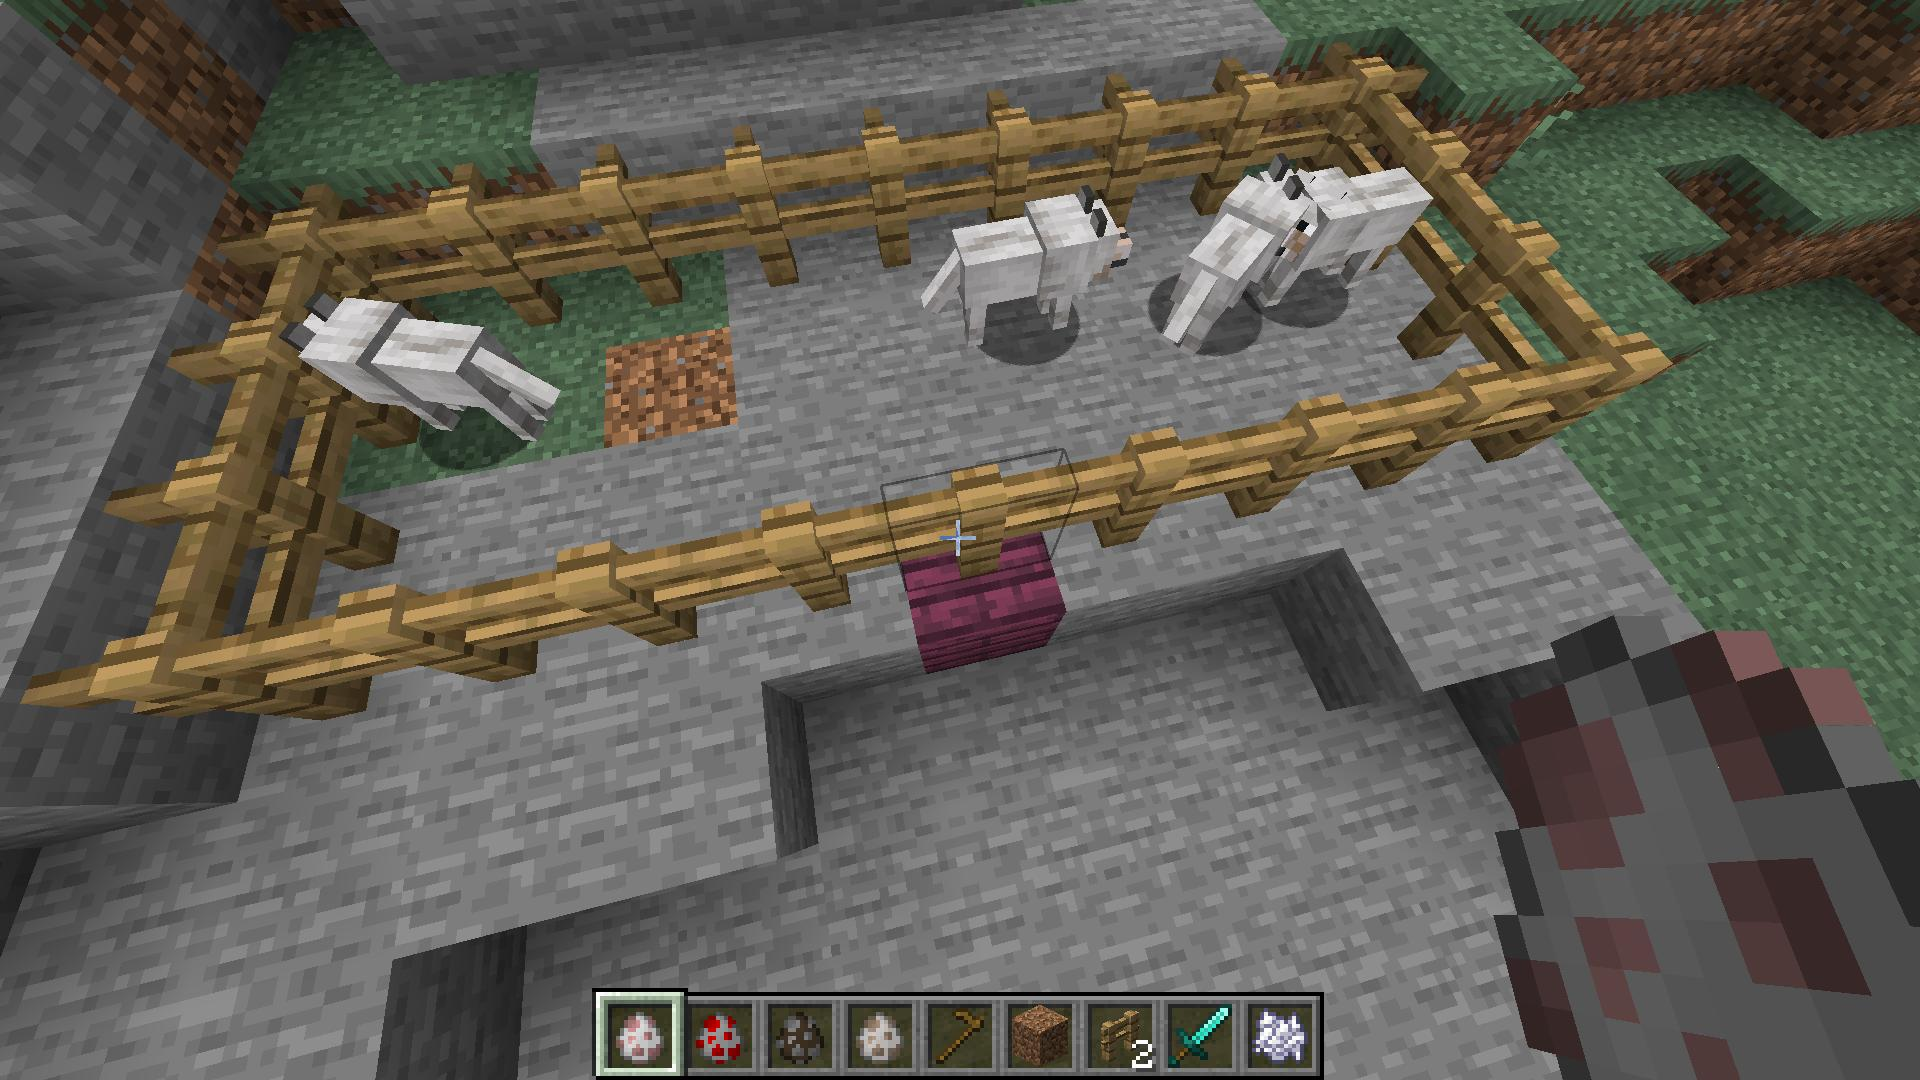wolf: (278, 289, 568, 450), (916, 185, 1137, 356), (1171, 161, 1311, 364), (1278, 161, 1444, 293)
